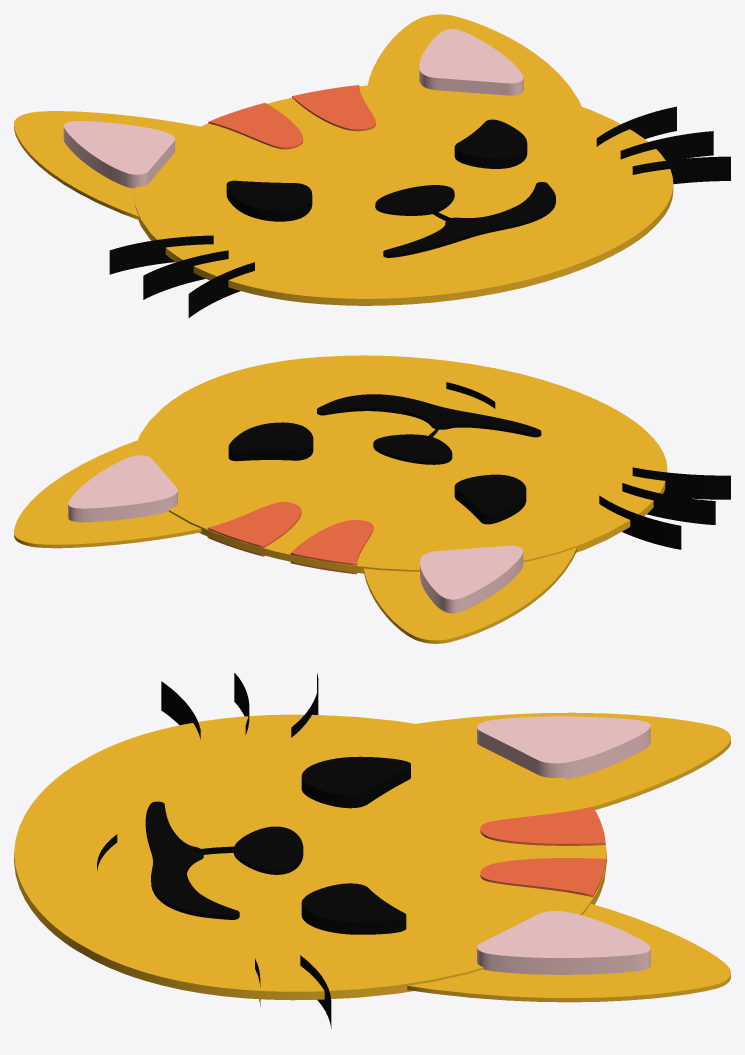
The model's file is emoji_u1f63c.glb.
The picture shows the model from 3 angles, top to bottom: view 1: azimuth 30°, elevation 25°; view 2: azimuth 150°, elevation 25°; view 3: azimuth 270°, elevation 25°; orthographic projection. The views are drawn at different scales.
Visible parts, largest first — view 1: emoji_u1f63c; view 2: emoji_u1f63c; view 3: emoji_u1f63c.
Boxes of the visible parts, bbox=[...] form: emoji_u1f63c: bbox=[14, 14, 730, 317]; emoji_u1f63c: bbox=[14, 355, 730, 643]; emoji_u1f63c: bbox=[14, 673, 730, 1028].
Bounding box in the file's own units: 0.0346 × 0.0018 × 0.031.
